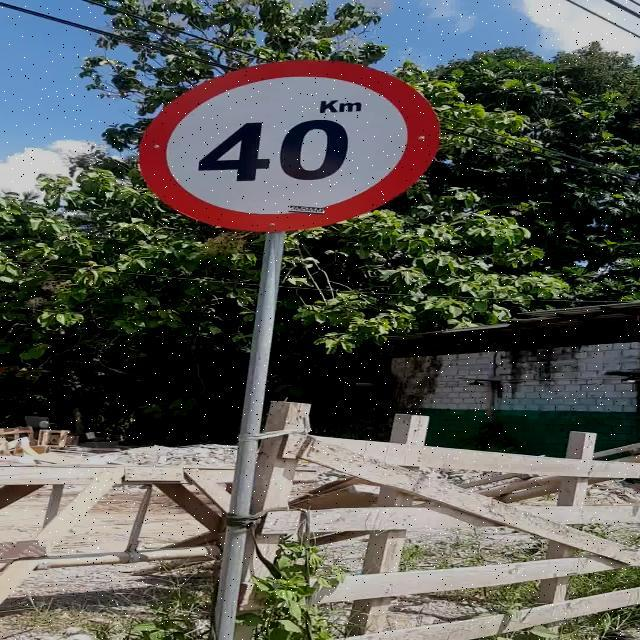Kecepatan Maks. 40 km: (138, 58, 440, 234)
